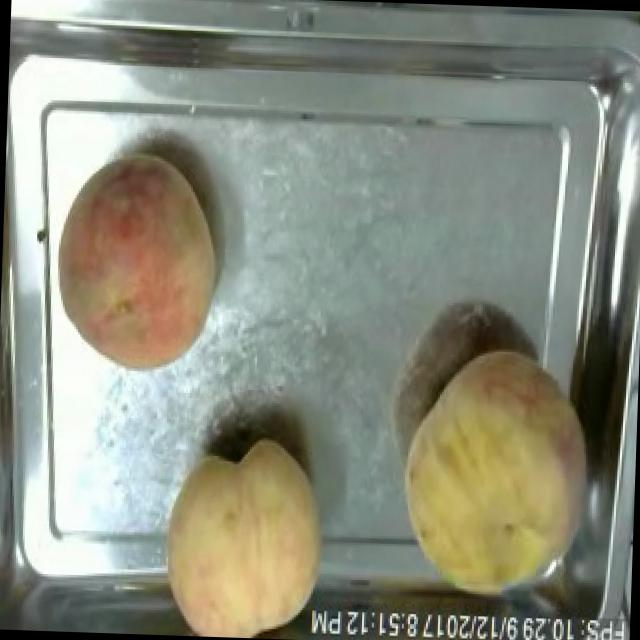Fruit: (384, 338, 607, 614), (40, 144, 232, 380), (149, 426, 338, 640)
